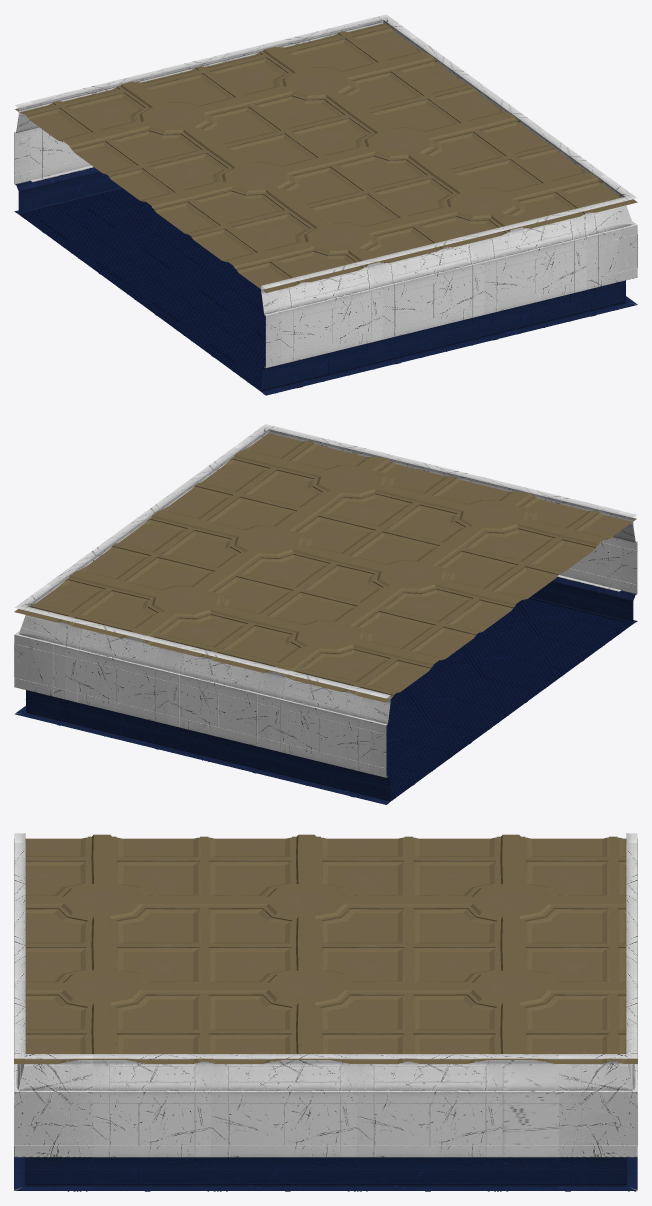
Rendered from menu.fbx.
3 views of the same model, one above another, from view 1: azimuth 30°, elevation 25°; view 2: azimuth 150°, elevation 25°; view 3: azimuth 270°, elevation 25° (orthographic). The views are drawn at different scales.
Parts seen in each view (by area): view 1: Ceiling, Wall_05_Panels.019, floor; view 2: Ceiling, Wall_05_Panels.019, floor; view 3: Ceiling, Wall_05_Panels.019, floor.
Part boxes in pixels (x1,y1,x2,y2): Ceiling: (15, 23, 637, 292); Wall_05_Panels.019: (14, 14, 637, 395); floor: (19, 189, 637, 395); Ceiling: (14, 433, 636, 702); Wall_05_Panels.019: (14, 424, 637, 804); floor: (14, 598, 632, 804); Ceiling: (14, 834, 637, 1063); Wall_05_Panels.019: (14, 833, 637, 1190); floor: (14, 1146, 636, 1191).
Bounding box in the file's own units: 1077 × 295 × 1258.
Materials: 1 (1 with a texture image).
